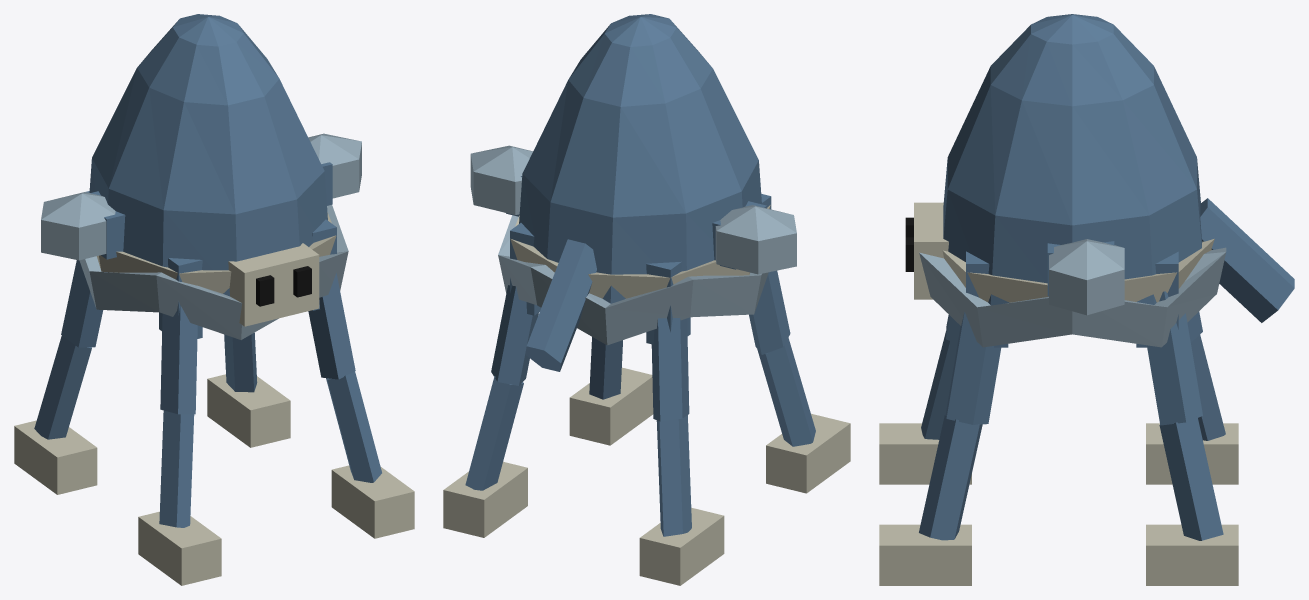
File: rillipod.glb
The picture shows the model from 3 angles, left to right: view 1: azimuth 30°, elevation 25°; view 2: azimuth 150°, elevation 25°; view 3: azimuth 270°, elevation 25°; orthographic projection. The views are drawn at different scales.
Parts seen in each view (by area): view 1: Rillipod; view 2: Rillipod; view 3: Rillipod.
Part boxes in pixels (x1,y1,x2,y2): Rillipod: (14,14,414,585); Rillipod: (443,14,850,585); Rillipod: (879,14,1294,585).
Bounding box in the file's own units: 0.46 × 0.65 × 0.48.
